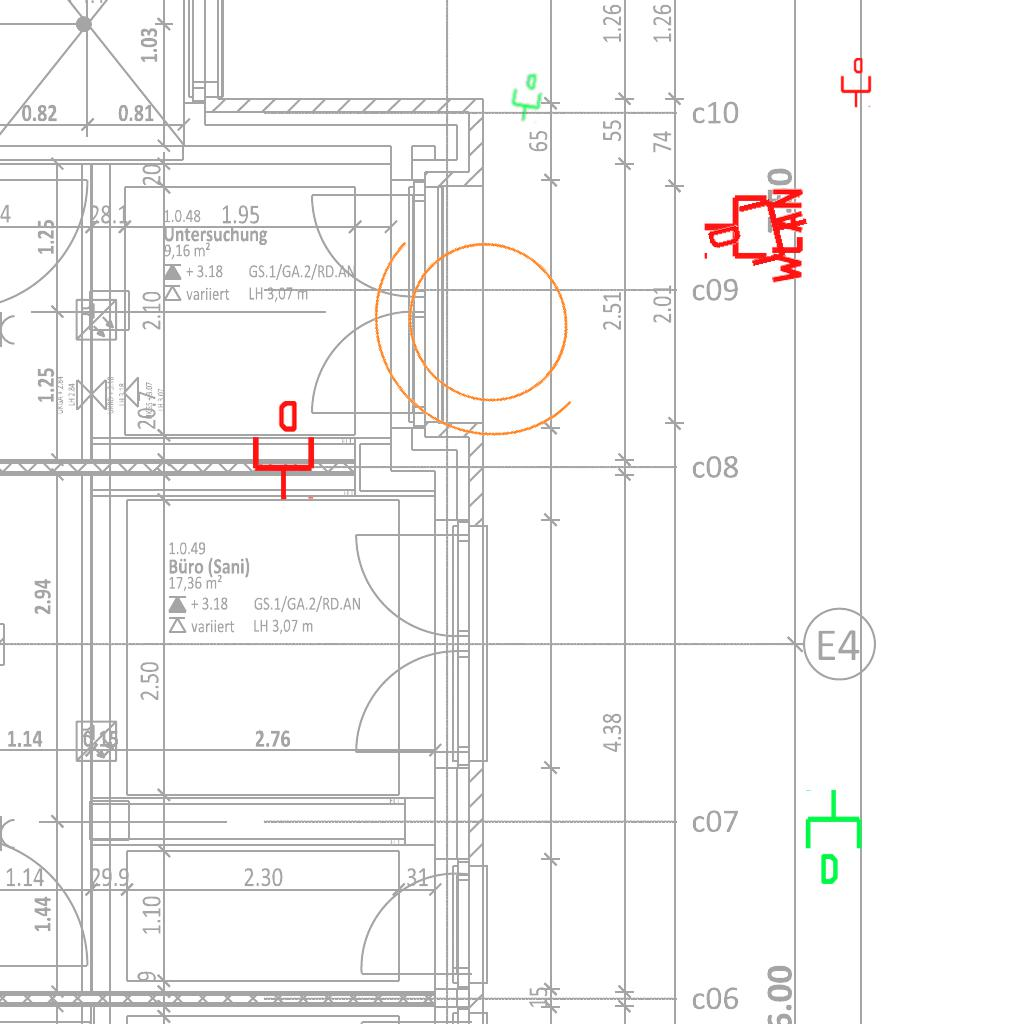Datenanschluss_einfach: (702, 187, 817, 279), (801, 787, 870, 887), (249, 401, 318, 501), (505, 69, 547, 125), (839, 58, 873, 108)
Scheinwerfer_fuer_Alarmbeleuchtung: (312, 160, 660, 507)
WLAN: (700, 184, 805, 288)
